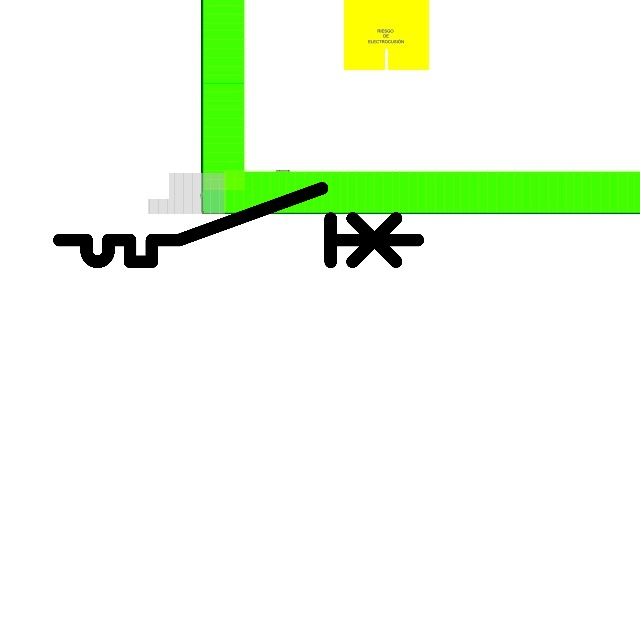interruptor_termomagnetico: (50, 179, 427, 271)
